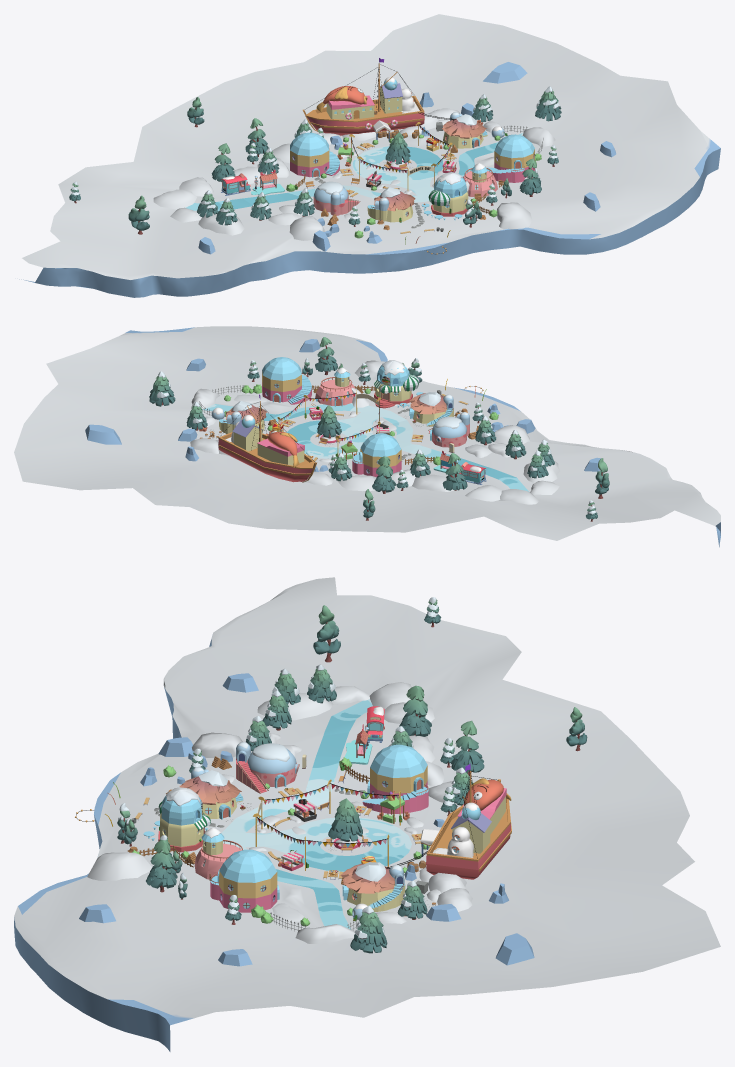
The model's file is Individual_BlubberBay_03.fbx.
The picture shows the model from 3 angles, top to bottom: view 1: azimuth 30°, elevation 25°; view 2: azimuth 150°, elevation 25°; view 3: azimuth 270°, elevation 25°; orthographic projection. The views are drawn at different scales.
Visible parts, largest first — view 1: pasted__Berg, pasted__pasted__Ship, HOUSE07, HOUSE08, STARBUCKS, polySurface12, HOUSE09, HOUSE01, pasted__pasted__SnowPatch24, HOUSE05, pasted__pasted__Fish, pasted__pasted__pasted__SnowPatch33 (+14 smaller); view 2: pasted__Berg, pasted__pasted__Ship, HOUSE08, STARBUCKS, HOUSE07, polySurface12, HOUSE01, HOUSE05, HOUSE09, Tree_54, Tree_354, pasted__Tree_353 (+19 smaller); view 3: pasted__Berg, pasted__pasted__Ship, HOUSE07, HOUSE08, STARBUCKS, HOUSE09, HOUSE01, polySurface12, pasted__pasted__SnowPatch24, HOUSE05, Tree_54, pasted__Tree_353 (+15 smaller).
Part boxes in pixels (bbox=[...]): pasted__Berg: bbox=[19, 14, 720, 297]; pasted__pasted__Ship: bbox=[302, 58, 424, 135]; HOUSE07: bbox=[290, 132, 339, 177]; HOUSE08: bbox=[486, 134, 534, 182]; STARBUCKS: bbox=[421, 172, 468, 220]; polySurface12: bbox=[367, 187, 415, 222]; HOUSE09: bbox=[442, 112, 487, 148]; HOUSE01: bbox=[313, 181, 360, 215]; pasted__pasted__SnowPatch24: bbox=[497, 202, 532, 229]; HOUSE05: bbox=[463, 163, 497, 196]; pasted__pasted__Fish: bbox=[316, 86, 367, 112]; pasted__pasted__pasted__SnowPatch33: bbox=[153, 189, 196, 209]; pasted__Berg: bbox=[14, 326, 720, 547]; pasted__pasted__Ship: bbox=[218, 394, 316, 482]; HOUSE08: bbox=[262, 357, 311, 404]; STARBUCKS: bbox=[374, 360, 423, 408]; HOUSE07: bbox=[352, 433, 401, 477]; polySurface12: bbox=[409, 392, 453, 426]; HOUSE01: bbox=[428, 412, 469, 447]; HOUSE05: bbox=[315, 367, 355, 405]; HOUSE09: bbox=[219, 401, 266, 433]; Tree_54: bbox=[149, 371, 175, 406]; Tree_354: bbox=[372, 456, 396, 493]; pasted__Tree_353: bbox=[442, 453, 467, 490]; pasted__Berg: bbox=[14, 577, 720, 1051]; pasted__pasted__Ship: bbox=[425, 763, 511, 879]; HOUSE07: bbox=[362, 744, 428, 813]; HOUSE08: bbox=[210, 849, 277, 912]; STARBUCKS: bbox=[143, 787, 210, 852]; HOUSE09: bbox=[340, 862, 405, 911]; HOUSE01: bbox=[236, 742, 299, 793]; polySurface12: bbox=[179, 767, 243, 818]; pasted__pasted__SnowPatch24: bbox=[87, 852, 152, 880]; HOUSE05: bbox=[194, 828, 242, 879]; Tree_54: bbox=[350, 906, 387, 953]; pasted__Tree_353: bbox=[399, 685, 431, 736].
Size of the model in its own units: 14148 by 1873 by 9240.
